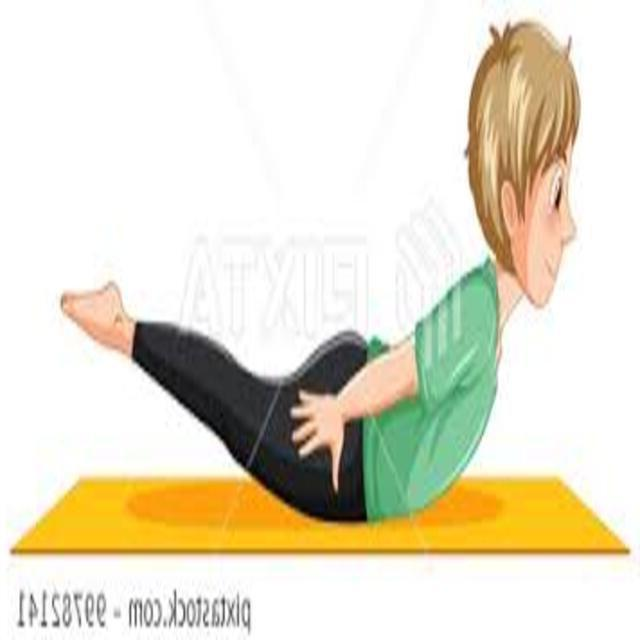Locust_Pose: (63, 20, 584, 525)
